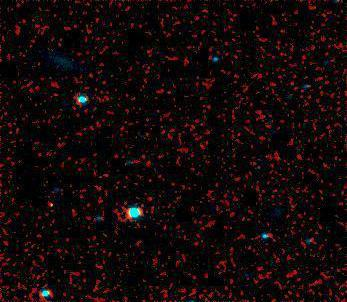star: (35, 190, 65, 220)
